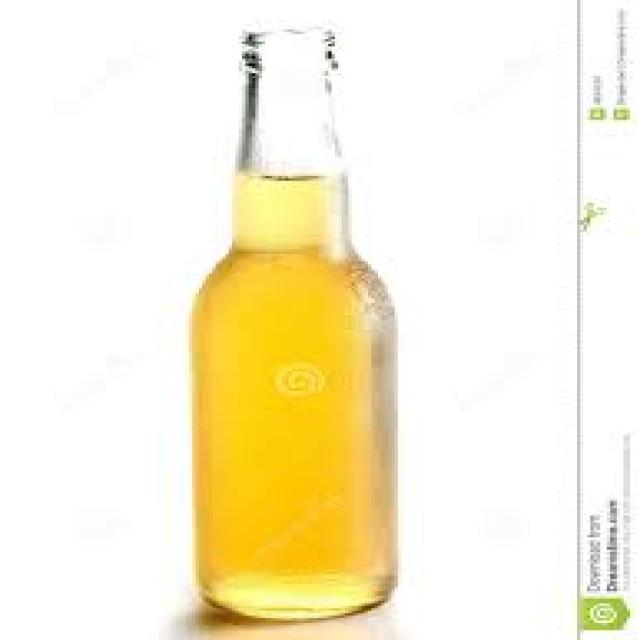glass: (186, 20, 398, 621)
